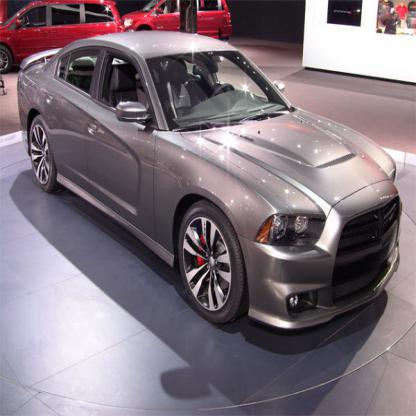Vehicle: (17, 32, 403, 357)
